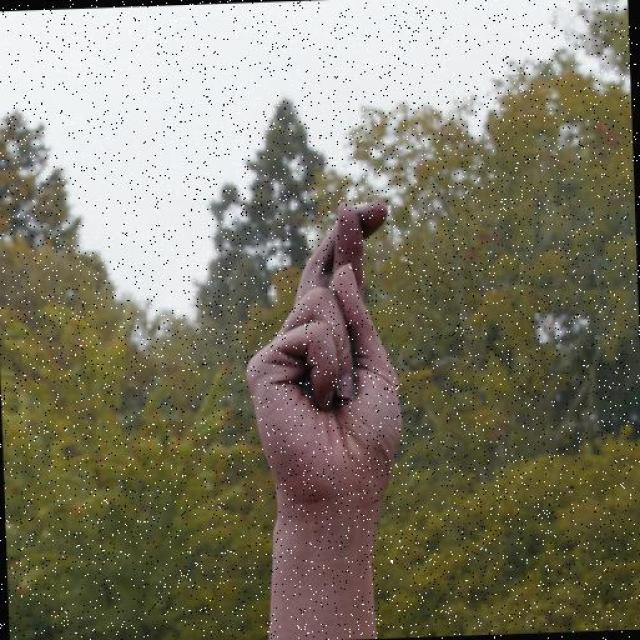R: (238, 193, 409, 514)
